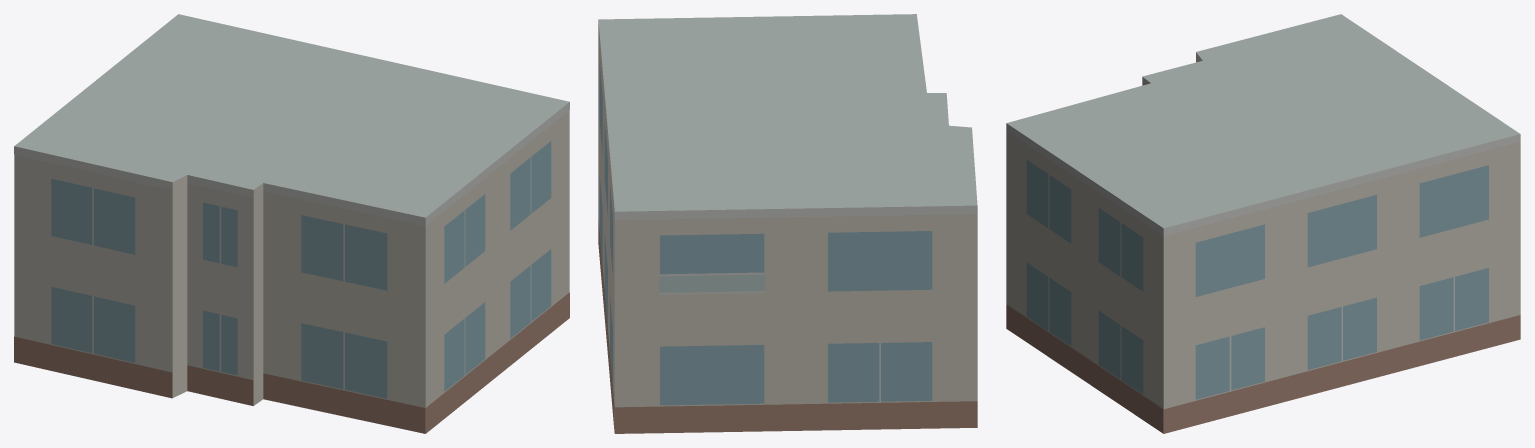
Rendered from survey-upis-32978458.glb.
The picture shows the model from 3 angles, left to right: view 1: azimuth 30°, elevation 25°; view 2: azimuth 150°, elevation 25°; view 3: azimuth 270°, elevation 25°; orthographic projection. The views are drawn at different scales.
Visible parts, largest first — view 1: survey-upis-32978458.tmp; view 2: survey-upis-32978458.tmp; view 3: survey-upis-32978458.tmp.
Boxes of the visible parts, x1,y1,x2,y2 form: survey-upis-32978458.tmp: (14, 14, 569, 433); survey-upis-32978458.tmp: (598, 14, 977, 433); survey-upis-32978458.tmp: (1006, 14, 1520, 433).
Bounding box in the file's own units: 14.33 × 6.4 × 14.52.
